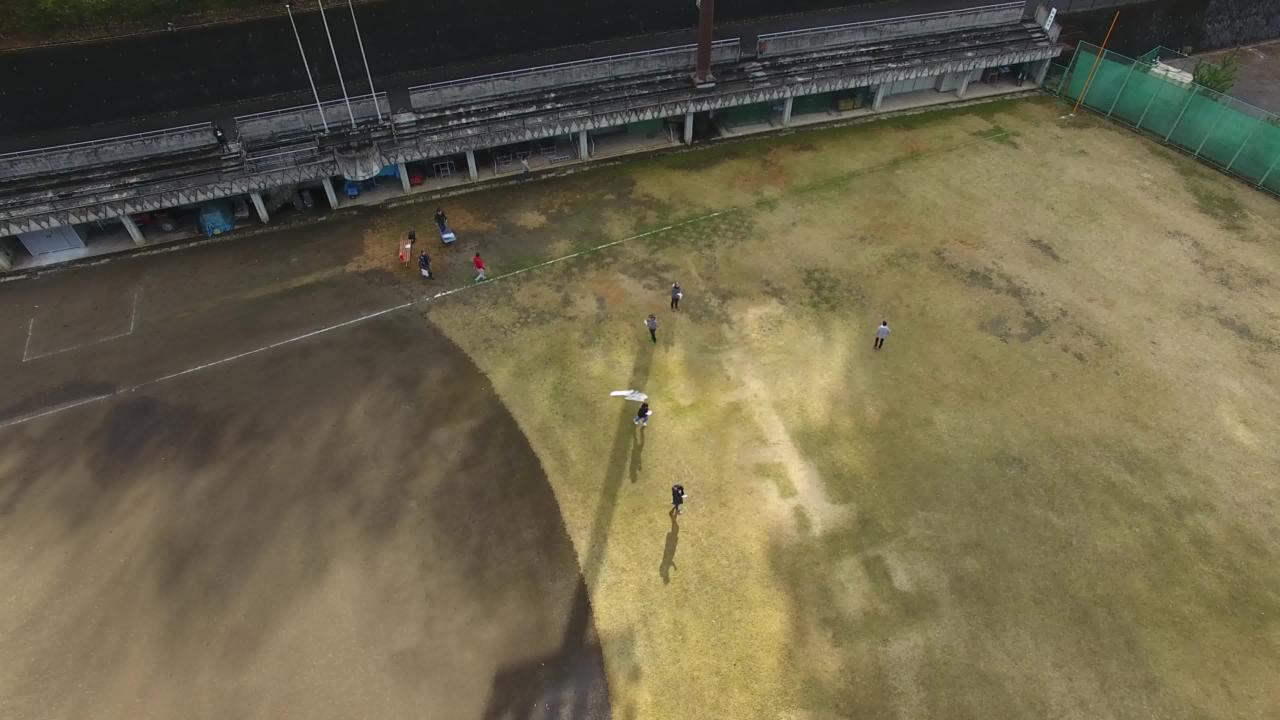person: (658, 478, 694, 526), (658, 269, 694, 317), (630, 307, 666, 355), (626, 393, 662, 441), (463, 246, 495, 288), (422, 202, 454, 244), (204, 118, 236, 160), (409, 249, 437, 289), (512, 146, 536, 183), (867, 319, 893, 350)
